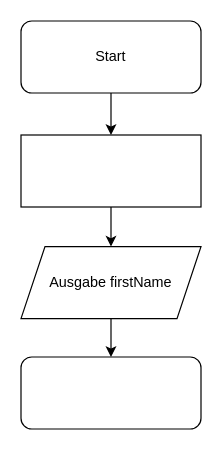
Image size: 222x450. Some labels were removed from this diagram. Each missing label, with the centre of its shape:
firstName = "Max": pixel 110 170
Stop: pixel 110 392
